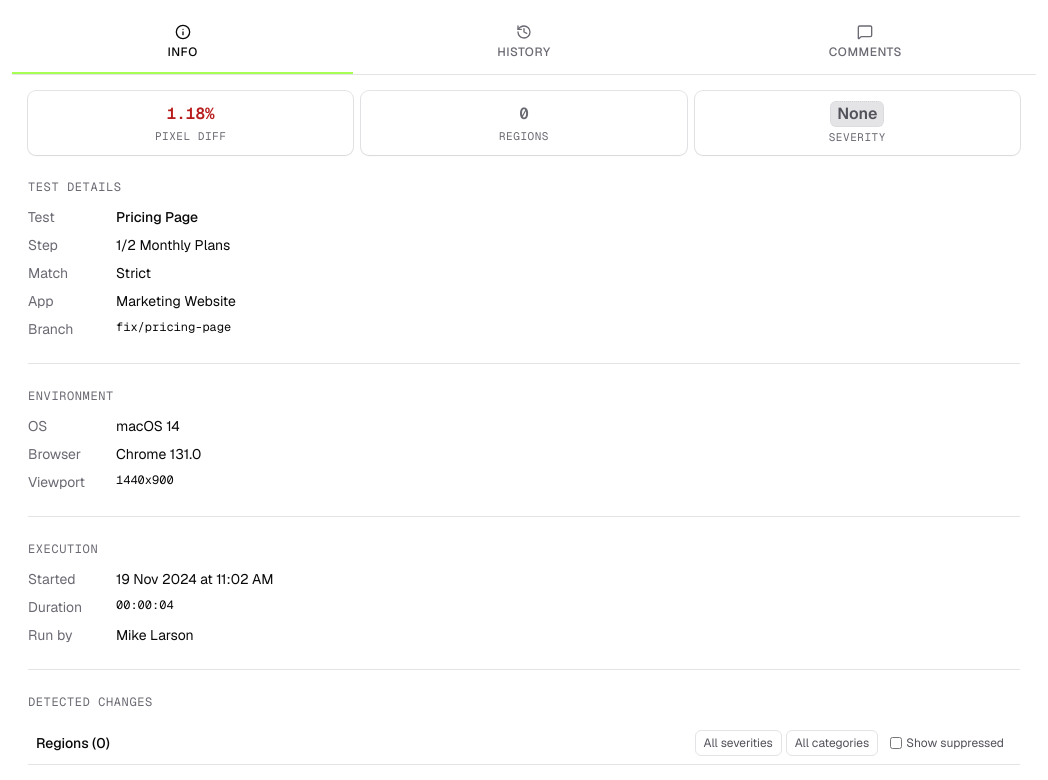
TestInfoSidebar › HISTORY tab explains itself when the checkpoint has no variation
The width and height of the screenshot is (1048, 780).
Click the button with test id "info-tab-history".
click(524, 43)  # box left=353, top=12, right=695, bottom=74
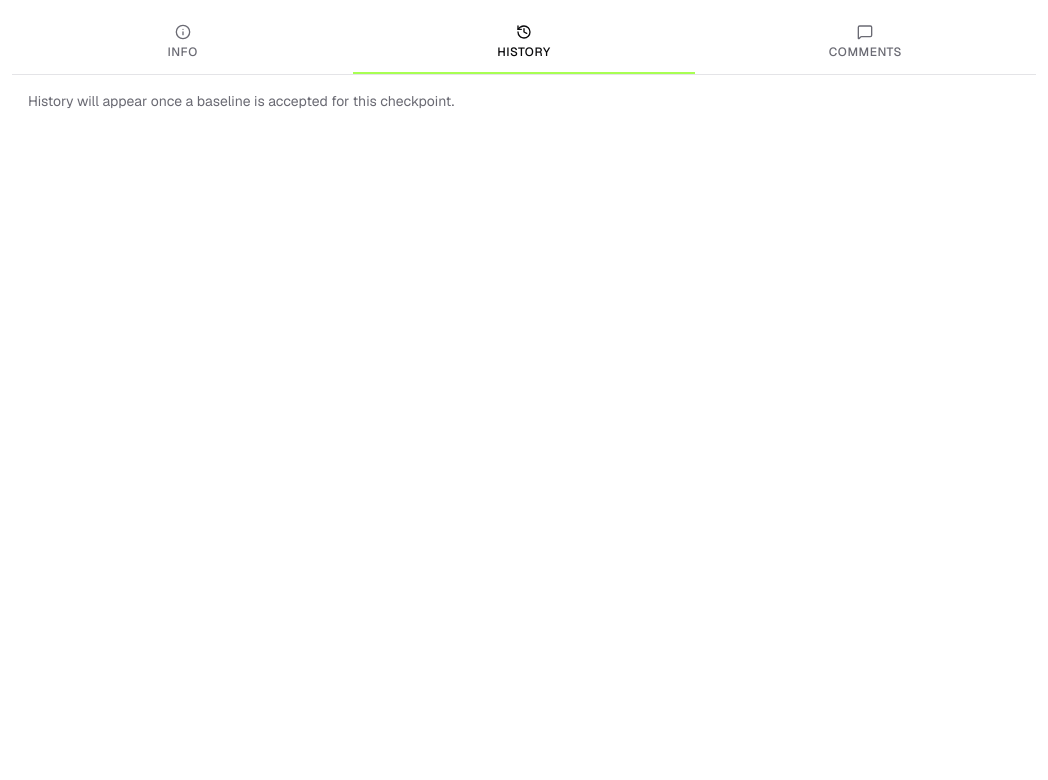
expect the text "History will appear once a baseline" is shown: met, box left=28, top=92, right=454, bottom=110
